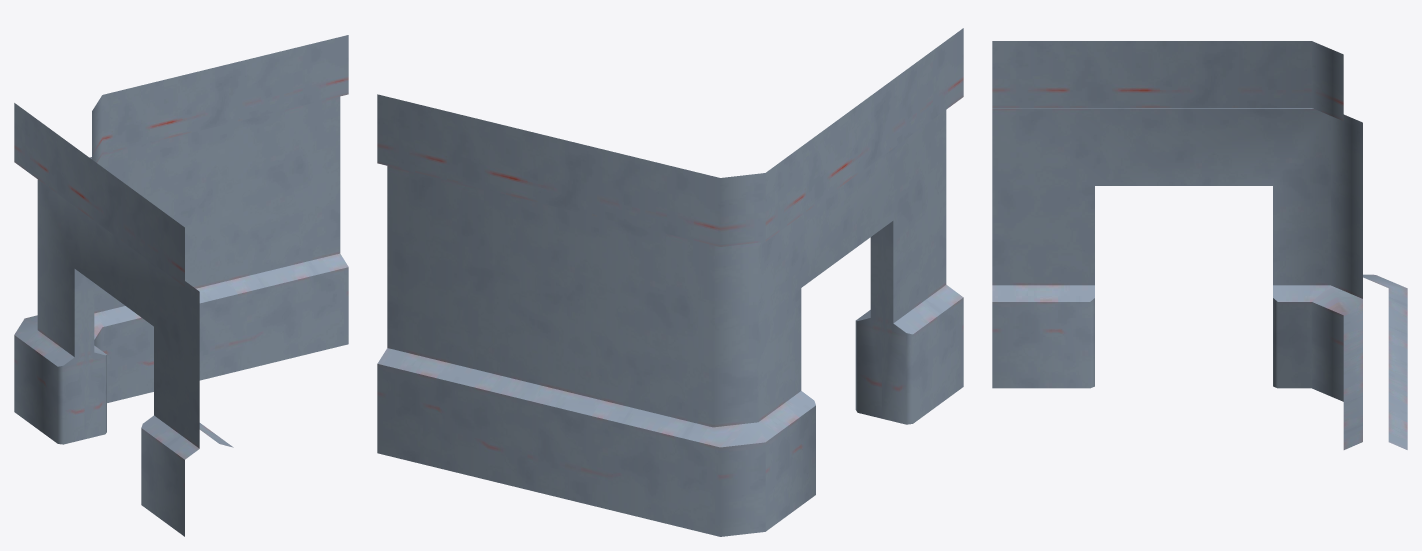
The model's file is Wall_DoorCorner_B_1.glb.
3 views of the same model, side by side, from view 1: azimuth 30°, elevation 25°; view 2: azimuth 150°, elevation 25°; view 3: azimuth 270°, elevation 25° (orthographic). The views are drawn at different scales.
Visible parts, largest first — view 1: Wall_DoorCorner_B_1; view 2: Wall_DoorCorner_B_1; view 3: Wall_DoorCorner_B_1.
Boxes of the visible parts, x1,y1,x2,y2 form: Wall_DoorCorner_B_1: [14, 35, 348, 536]; Wall_DoorCorner_B_1: [377, 28, 963, 536]; Wall_DoorCorner_B_1: [992, 41, 1407, 449].
Size of the model in its own units: 6.5 by 6 by 6.5.
Materials: 1 (1 with a texture image).
